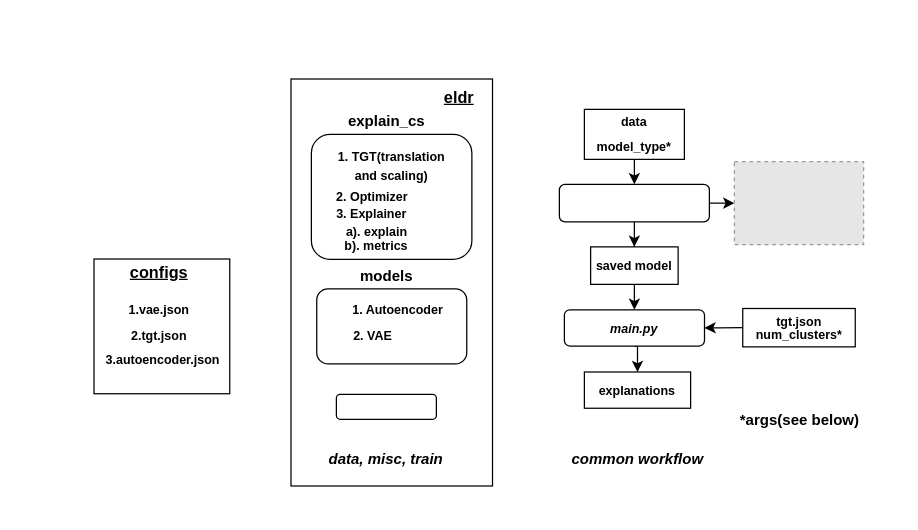
The diagram is 918 pixels wide and 530 high, and some of its shapes have lost their labels. Grey dashed boxes stand in for pictures. Each missing label, with the centre of its shape:
plotter: pixel 385 406
trainr.py: pixel 633 202
